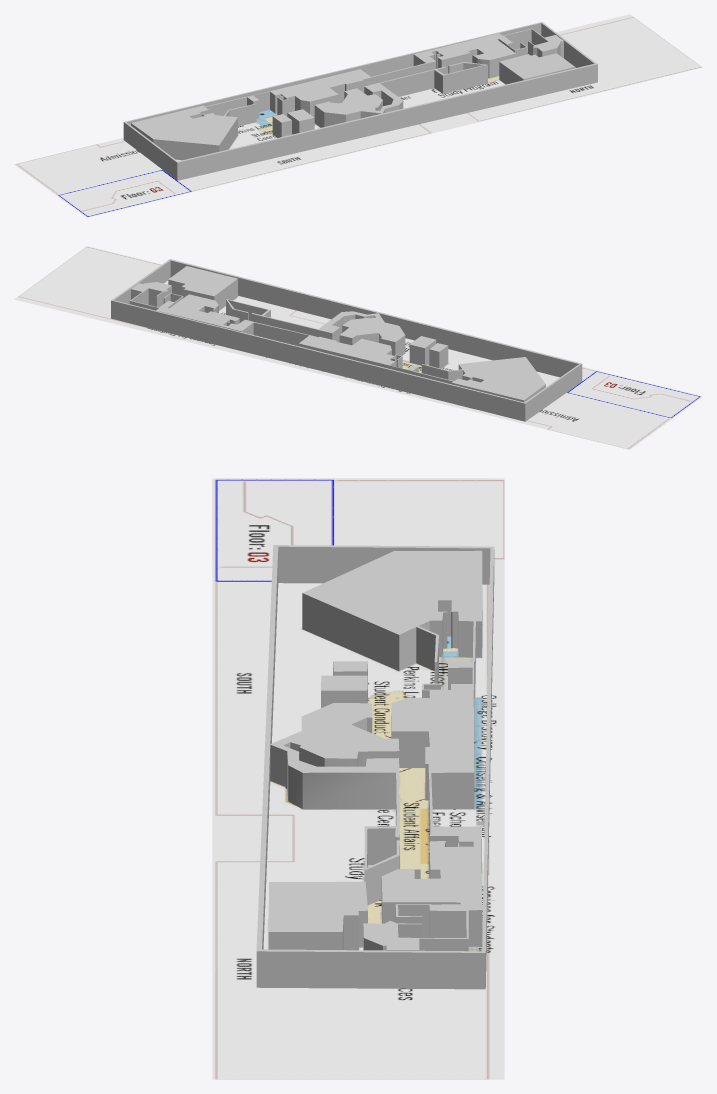
Rendered from MainThirdFloor.fbx.
3 views of the same model, one above another, from view 1: azimuth 30°, elevation 25°; view 2: azimuth 150°, elevation 25°; view 3: azimuth 270°, elevation 25° (orthographic). The views are drawn at different scales.
Parts seen in each view (by area): view 1: Plane, Outline, Cap_2_3, Cap_2, Cap_2_13, Cap_2_17, Block8, Federal_Work_Study_Program, Cap_2_6, Cap_2_16, Block5, Block1 (+7 smaller); view 2: Plane, Outline, Cap_2_3, Cap_2, Cap_2_13, Cap_2_17, Cap_2_6, Cap_2_16, Block5, Block2, Bridge_Top, Health_Services (+6 smaller); view 3: Plane, Outline, Cap_2_3, Block5, Block8, Cap_2_13, Cap_2, Cap_2_17, Cap_2_6, Cap_2_16, Block1, Health_Services (+5 smaller).
Part boxes in pixels (x1,y1,x2,y2): Plane: (14, 14, 702, 217); Outline: (123, 23, 597, 180); Cap_2_3: (131, 105, 237, 145); Cap_2: (124, 22, 597, 162); Cap_2_13: (315, 83, 402, 114); Cap_2_17: (276, 69, 371, 101); Block8: (131, 110, 237, 160); Federal_Work_Study_Program: (434, 63, 487, 93); Cap_2_6: (435, 33, 515, 59); Cap_2_16: (499, 53, 574, 78); Block5: (314, 87, 403, 127); Block1: (281, 77, 371, 117); Plane: (14, 246, 702, 449); Outline: (111, 260, 582, 421); Cap_2_3: (452, 357, 545, 400); Cap_2: (111, 259, 581, 403); Cap_2_13: (318, 311, 404, 341); Cap_2_17: (299, 335, 393, 363); Cap_2_6: (156, 294, 239, 325); Cap_2_16: (168, 266, 237, 296); Block5: (317, 314, 405, 355); Block2: (168, 279, 237, 310); Bridge_Top: (253, 322, 308, 346); Health_Services: (129, 288, 183, 310); Plane: (212, 478, 504, 1079); Outline: (256, 546, 494, 989); Cap_2_3: (303, 550, 482, 634); Block5: (270, 717, 399, 809); Block8: (302, 593, 482, 671); Cap_2_13: (270, 703, 399, 772); Cap_2: (256, 545, 494, 952); Cap_2_17: (391, 689, 474, 772); Cap_2_6: (381, 841, 482, 910); Cap_2_16: (268, 881, 367, 931); Block1: (391, 697, 474, 809); Health_Services: (395, 905, 468, 951).
Bounding box in the file's own units: 1772 × 50 × 364.
Materials: 1 (1 with a texture image).
